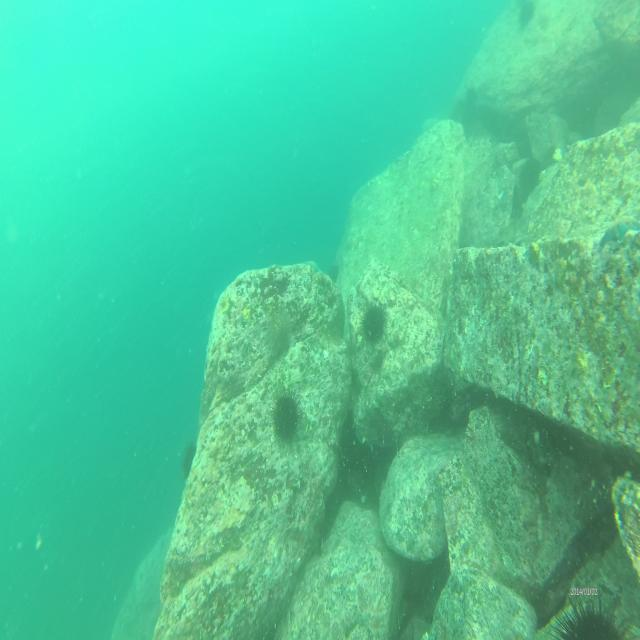echinus: (555, 587, 633, 640), (268, 388, 303, 454), (363, 296, 389, 350), (180, 437, 201, 484), (516, 0, 538, 31), (326, 260, 342, 293)
starfish: (597, 214, 640, 250)
